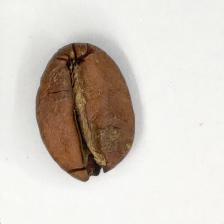NG: (93, 120, 124, 156)
